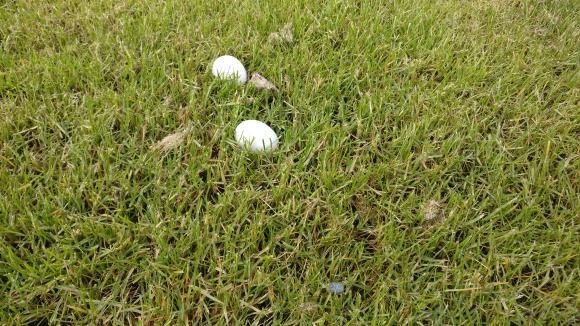egg: (234, 118, 280, 157), (210, 54, 247, 89)
